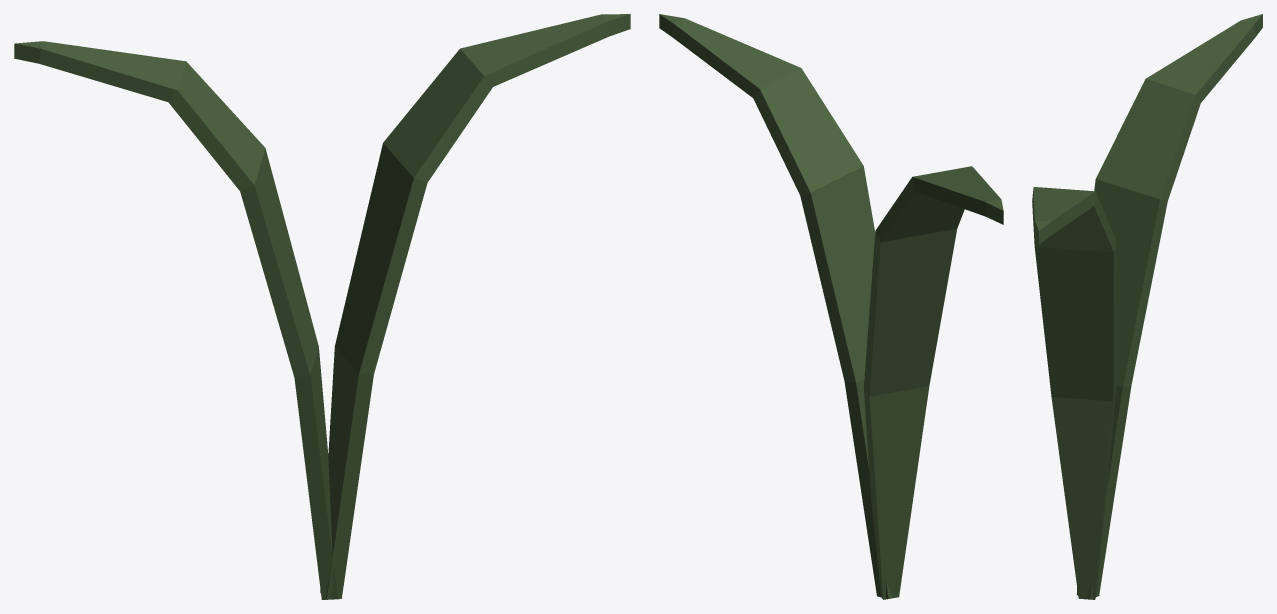
File: Orange_1.glb
The picture shows the model from 3 angles, left to right: view 1: azimuth 30°, elevation 25°; view 2: azimuth 150°, elevation 25°; view 3: azimuth 270°, elevation 25°; orthographic projection. The views are drawn at different scales.
Visible parts, largest first — view 1: Orange_1_Plane.032; view 2: Orange_1_Plane.032; view 3: Orange_1_Plane.032.
Part boxes in pixels (box(x1,y1,x2,y2)): Orange_1_Plane.032: box(14, 14, 630, 599); Orange_1_Plane.032: box(659, 14, 1003, 599); Orange_1_Plane.032: box(1032, 14, 1262, 599).
Bounding box in the file's own units: 0.2378 × 0.2474 × 0.1066.
